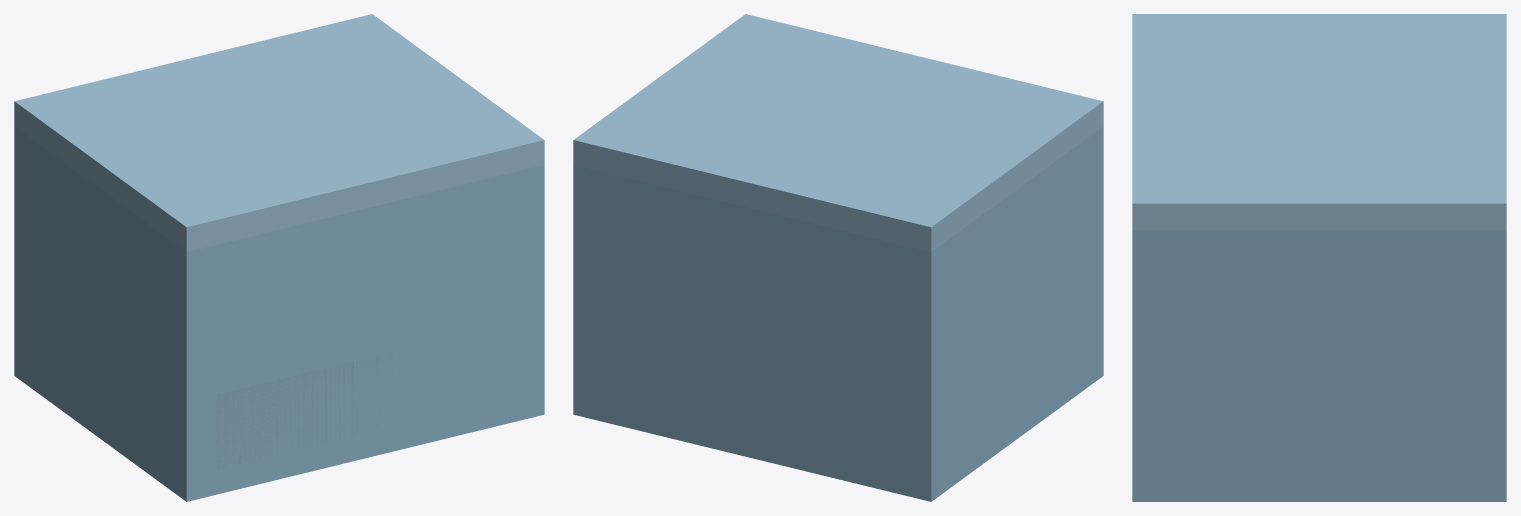
The picture shows the model from 3 angles, left to right: view 1: azimuth 30°, elevation 25°; view 2: azimuth 150°, elevation 25°; view 3: azimuth 270°, elevation 25°; orthographic projection. The views are drawn at different scales.
Visible parts, largest first — view 1: Kotak_Badan, Tutup_Panel, INT_LaciKotak; view 2: Kotak_Badan, Tutup_Panel; view 3: Kotak_Badan, Tutup_Panel.
Part boxes in pixels (x1,y1,x2,y2): Kotak_Badan: (14, 126, 544, 501); Tutup_Panel: (14, 14, 544, 252); INT_LaciKotak: (216, 349, 403, 468); Kotak_Badan: (573, 126, 1103, 501); Tutup_Panel: (573, 14, 1103, 252); Kotak_Badan: (1132, 230, 1506, 501); Tutup_Panel: (1132, 14, 1506, 230).
Size of the model in its own units: 0.6 by 0.44 by 0.5.
